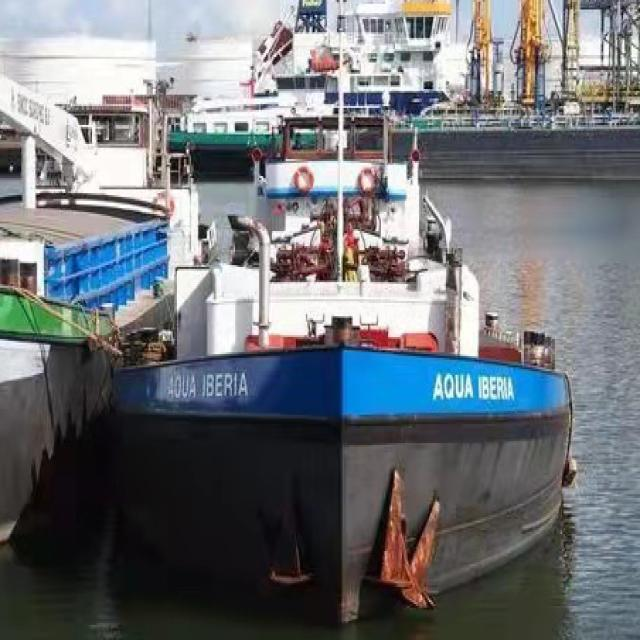fishing boat: (89, 44, 593, 605)
